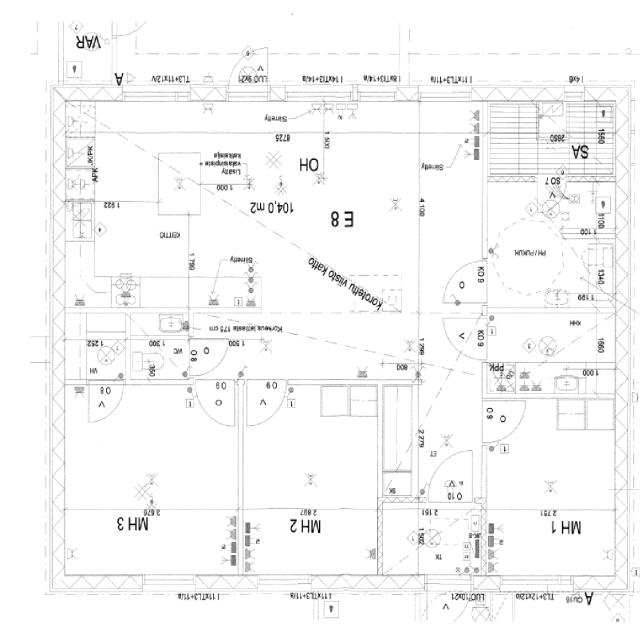door: (428, 576, 471, 637), (429, 450, 472, 502), (229, 44, 267, 101), (442, 317, 487, 360), (195, 379, 235, 427), (443, 260, 487, 302), (247, 379, 286, 425), (482, 401, 524, 442), (89, 379, 123, 420), (189, 339, 226, 373), (537, 176, 567, 213), (112, 6, 146, 36)
